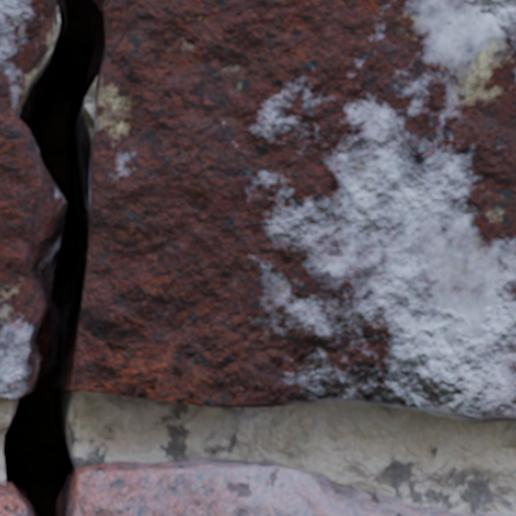broken_brick: (69, 0, 515, 423), (75, 457, 509, 515), (0, 0, 54, 401), (0, 484, 27, 515)
crack: (0, 0, 108, 515)
